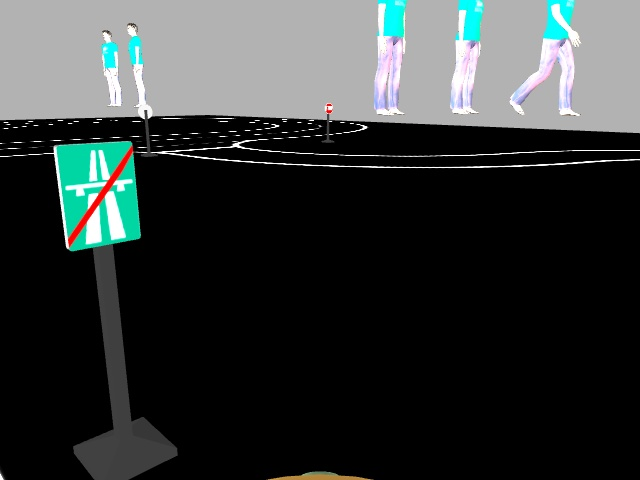HighwayExit: (57, 138, 141, 250)
